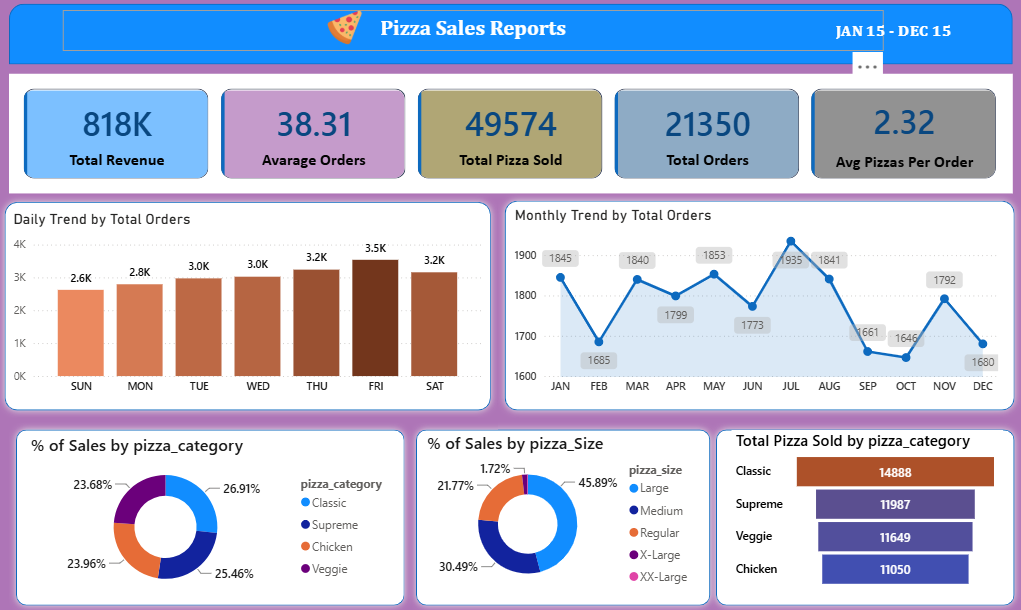

Layout of this report page (visuals, bound fields, positions):
{"tool":"powerbi","page":{"name":"Page 1","canvas":[1280,720],"ordinal":0},"visuals":[{"type":"cardVisual","fields":{"Data":["pizza_sales.Total Revenue","pizza_sales.Avarage Orders","pizza_sales.Total Pizza Sold","pizza_sales.Total Orders","pizza_sales.Avg Pizzas Per Order"]},"box":[108.2,95.2,1147,137.1],"z":0},{"type":"shape","box":[108.2,15.9,1147,69.3],"z":1000},{"type":"textbox","box":[170.2,23.1,937.8,47.6],"z":2000},{"type":"textbox","box":[1048.9,30.3,158.7,40.4],"z":3000},{"type":"image","box":[428.5,23.1,127,40.4],"z":4000},{"type":"shape","box":[213.5,232.8,528.4,261.8],"z":5000},{"type":"columnChart","title":"Daily Trend by Total Orders","fields":{"Category":["pizza_sales.Order Day"],"Y":["pizza_sales.Total Orders"]},"box":[231.6,249.7,491,228],"z":6000},{"type":"shape","box":[741.6,232.3,523.7,255.4],"z":7000},{"type":"areaChart","title":"Monthly Trend by Total Orders","fields":{"Category":["pizza_sales.Order Month"],"Y":["pizza_sales.Total Orders"]},"box":[758.9,242.4,470.3,228],"z":8000},{"type":"shape","box":[213.5,494.6,354.7,217.2],"z":9000},{"type":"shape","box":[565.8,494.6,352.3,217.2],"z":10000},{"type":"shape","box":[908.4,494.6,357.1,217.2],"z":11000},{"type":"donutChart","title":"% of Sales by pizza_category","fields":{"Category":["pizza_sales.pizza_category"],"Y":["pizza_sales.Total Revenue"]},"box":[235.2,505,320.3,187.6],"z":12000},{"type":"donutChart","title":"% of Sales by pizza_Size","fields":{"Y":["pizza_sales.Total Revenue"],"Category":["pizza_sales.pizza_size"]},"box":[581.4,505,320.3,187.6],"z":13000},{"type":"funnel","fields":{"Category":["pizza_sales.pizza_category"],"Y":["pizza_sales.Total Pizza Sold"]},"box":[934.9,503.5,310.2,184.7],"z":14000}]}

Visuals, with their boxes on the page's 1280x720 design canvas (x1, y1, x2, y2). These are canvas units, not pixel positions in the 1021x610 screenshot, which may show the page scaled, cropped or inside an application window:
cardVisual - pizza_sales.Total Revenue x pizza_sales.Avarage Orders: Rect(108, 95, 1255, 232)
shape: Rect(108, 16, 1255, 85)
textbox: Rect(170, 23, 1108, 71)
textbox: Rect(1049, 30, 1208, 71)
image: Rect(428, 23, 556, 64)
shape: Rect(214, 233, 742, 495)
"Daily Trend by Total Orders" columnChart: Rect(232, 250, 723, 478)
shape: Rect(742, 232, 1265, 488)
"Monthly Trend by Total Orders" areaChart: Rect(759, 242, 1229, 470)
shape: Rect(214, 495, 568, 712)
shape: Rect(566, 495, 918, 712)
shape: Rect(908, 495, 1266, 712)
"% of Sales by pizza_category" donutChart: Rect(235, 505, 556, 693)
"% of Sales by pizza_Size" donutChart: Rect(581, 505, 902, 693)
funnel - pizza_sales.pizza_category x pizza_sales.Total Pizza Sold: Rect(935, 504, 1245, 688)
